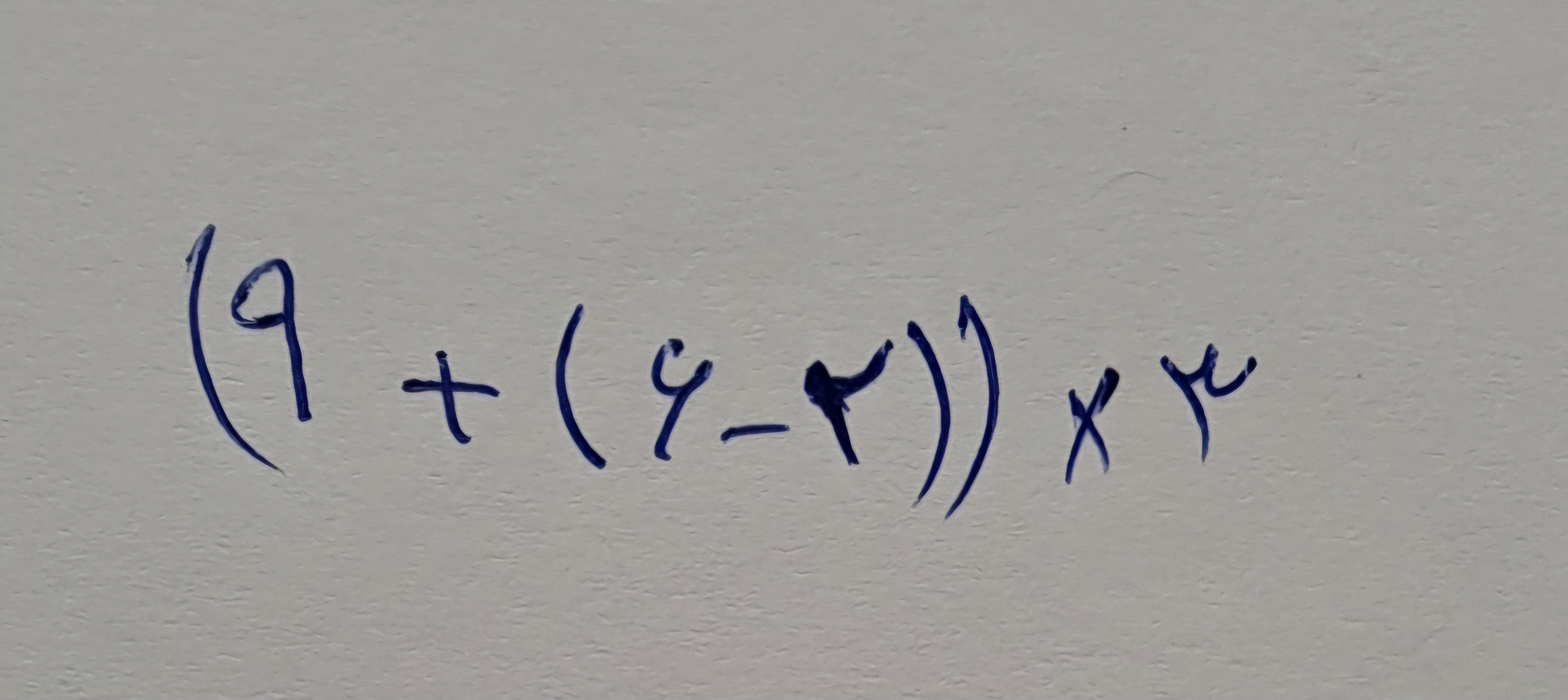character: (185, 219, 286, 467), (233, 257, 320, 419), (807, 339, 908, 466), (545, 300, 610, 472), (1157, 347, 1255, 457), (394, 352, 503, 447), (953, 297, 994, 510), (899, 321, 948, 497), (646, 335, 709, 460), (1058, 364, 1112, 482), (718, 416, 783, 437)
